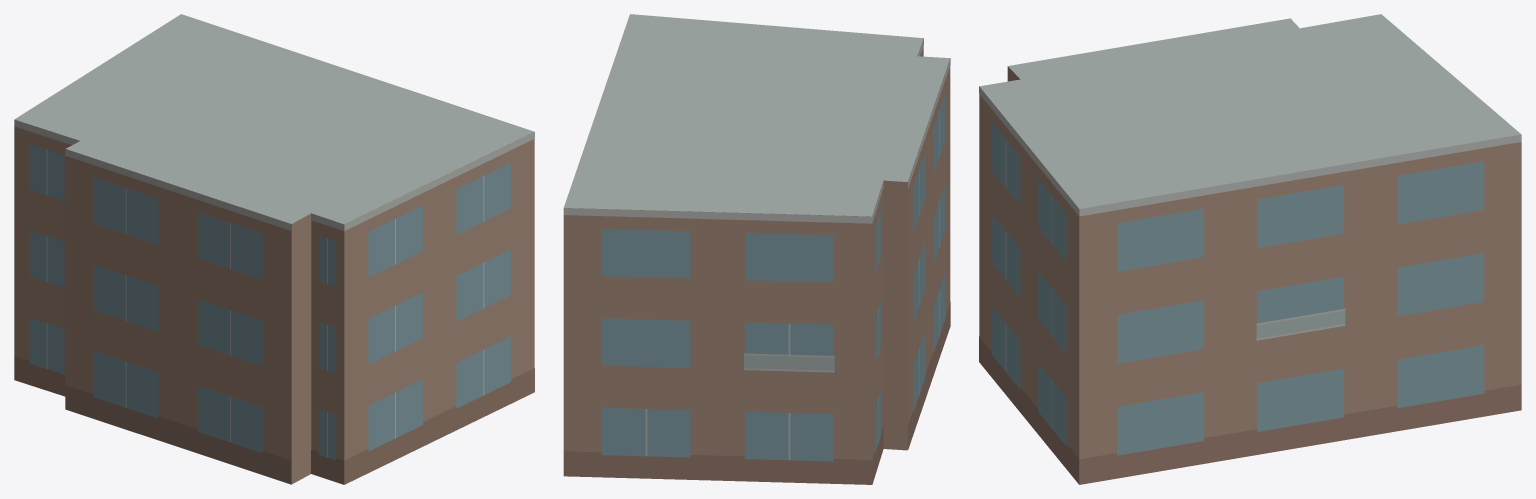
File: survey-upis-33038913.glb
3 renders of one model, left to right at view 1: azimuth 30°, elevation 25°; view 2: azimuth 150°, elevation 25°; view 3: azimuth 270°, elevation 25°, orthographic. The views are drawn at different scales.
Parts seen in each view (by area): view 1: survey-upis-33038913.tmp; view 2: survey-upis-33038913.tmp; view 3: survey-upis-33038913.tmp.
Boxes of the visible parts, left/top/right/bottom form: survey-upis-33038913.tmp: left=14, top=14, right=534, bottom=484; survey-upis-33038913.tmp: left=563, top=14, right=950, bottom=484; survey-upis-33038913.tmp: left=979, top=14, right=1521, bottom=484.
Bounding box in the file's own units: 13.9 × 9.15 × 16.32.
